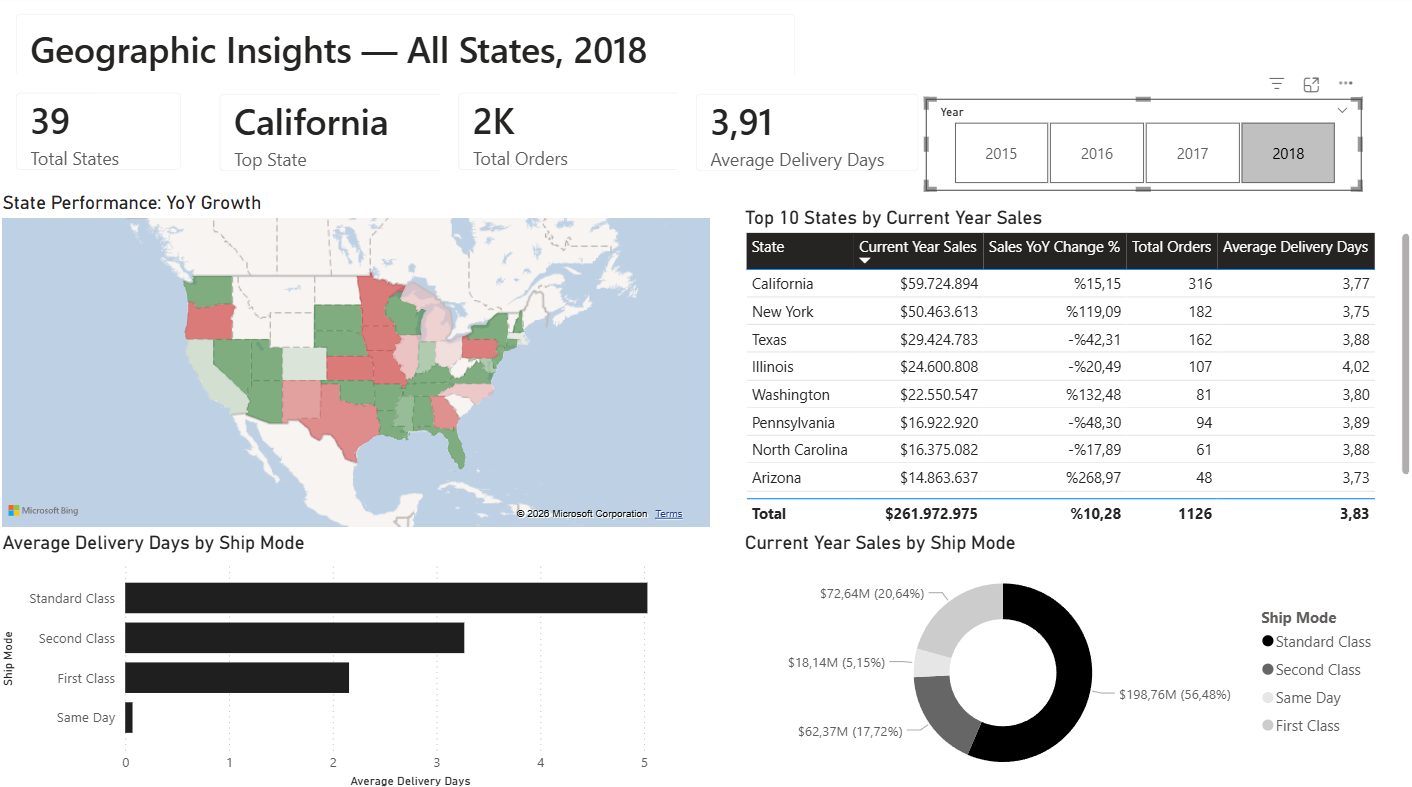

This screenshot's page, from the dashboard's own definition file:
{"tool":"powerbi","page":{"name":"Geographic Insights","canvas":[1280,720],"ordinal":1},"visuals":[{"type":"tableEx","title":"Top 10 States by Current Year Sales","fields":{"Values":["Dim_Customer.State","_Measures.Current Year Sales","_Measures.Sales YoY Change %","_Measures.Total Orders","_Measures.Average Delivery Days"]},"box":[669.3,190.3,610.8,293.6],"z":0},{"type":"filledMap","title":"State Performance: YoY Growth","fields":{"Category":["Dİm_Customer.State"]},"box":[0,176.6,648.1,307.3],"z":1000},{"type":"cardVisual","fields":{"Data":["_Measures.Geographic Title"]},"box":[0,0,737.7,93.3],"z":2000},{"type":"cardVisual","fields":{"Data":["_Measures.Total States"]},"box":[0,70.9,183.8,104.2],"z":2000,"group":"g1"},{"type":"group","id":"g1","title":"Group 1","box":[0,70.9,848.4,105.7],"z":3000},{"type":"cardVisual","fields":{"Data":["_Measures.Top State"]},"box":[183.8,71.7,235.3,104.2],"z":3000,"group":"g1"},{"type":"cardVisual","fields":{"Data":["_Measures.Total Orders"]},"box":[398.5,70.9,235.3,104.2],"z":4000,"group":"g1"},{"type":"barChart","fields":{"Category":["Fact_Table.Ship Mode"],"Y":["_Measures.Average Delivery Days"]},"box":[0,483.9,639.4,236.4],"z":4000},{"type":"cardVisual","fields":{"Data":["_Measures.Average Delivery Days"]},"box":[613.1,72.5,235.3,104.2],"z":5000,"group":"g1"},{"type":"donutChart","fields":{"Category":["Fact_Table.Ship Mode"],"Y":["_Measures.Current Year Sales"]},"box":[669.3,483.9,583.4,236.4],"z":5000},{"type":"slicer","fields":{"Values":["Dim_Date.Year"]},"box":[837.2,93.3,393.1,83.3],"z":6000}]}

Visuals, with their boxes in screenshot pixels (x1, y1, x2, y2), scaled from the page's 1280x720 canvas onto the 1412x787 screenshot:
"Top 10 States by Current Year Sales" tableEx: <region>738, 208, 1411, 529</region>
"State Performance: YoY Growth" filledMap: <region>0, 193, 715, 529</region>
cardVisual - _Measures.Geographic Title: <region>0, 0, 814, 102</region>
cardVisual - _Measures.Total States: <region>0, 77, 203, 191</region>
"Group 1" group: <region>0, 77, 936, 193</region>
cardVisual - _Measures.Top State: <region>203, 78, 462, 192</region>
cardVisual - _Measures.Total Orders: <region>440, 77, 699, 191</region>
barChart - Fact_Table.Ship Mode x _Measures.Average Delivery Days: <region>0, 529, 705, 786</region>
cardVisual - _Measures.Average Delivery Days: <region>676, 79, 936, 193</region>
donutChart - Fact_Table.Ship Mode x _Measures.Current Year Sales: <region>738, 529, 1382, 786</region>
slicer - Dim_Date.Year: <region>924, 102, 1357, 193</region>
